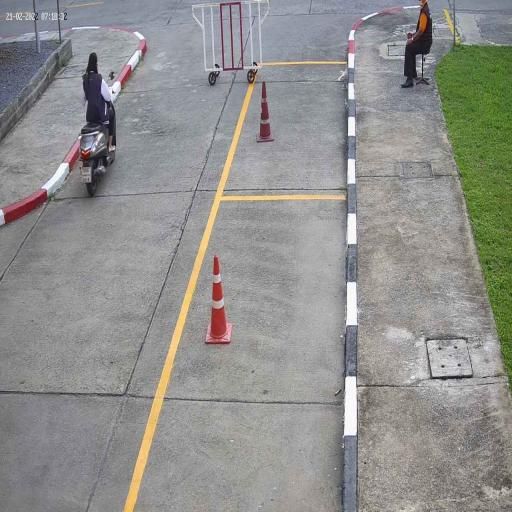motorcycle: (80, 116, 116, 201)
